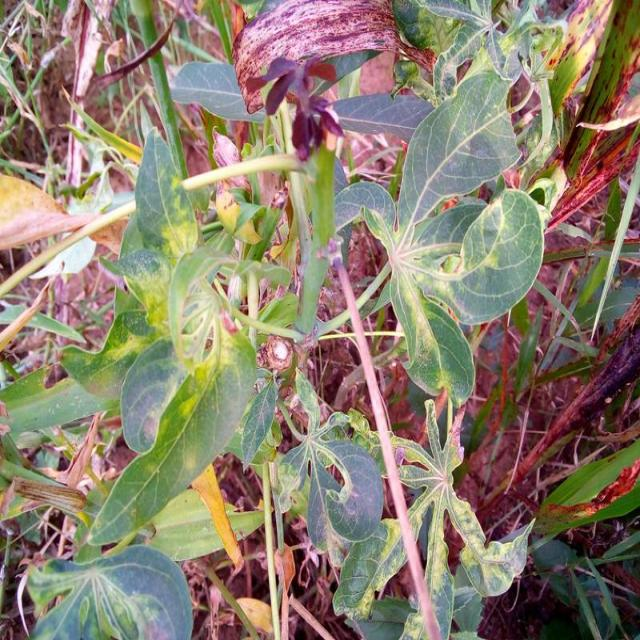cassava leaf: (85, 324, 257, 547), (395, 56, 521, 235), (25, 543, 194, 638)
